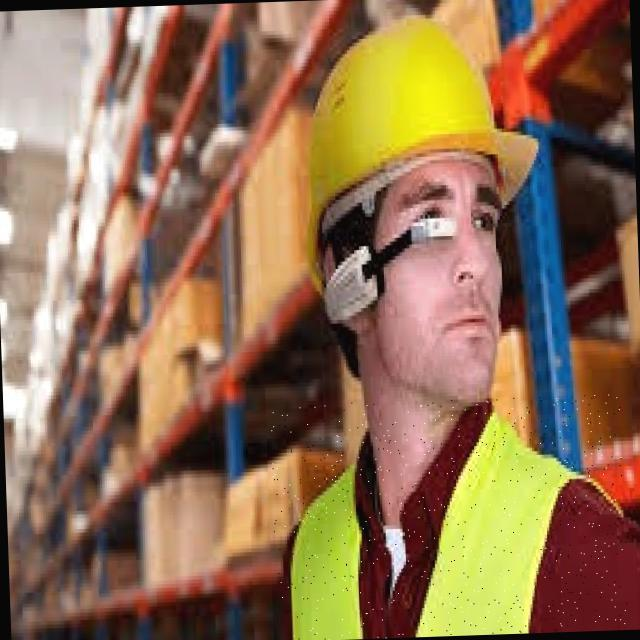helmet: (301, 9, 546, 232)
vest: (269, 392, 629, 640)
